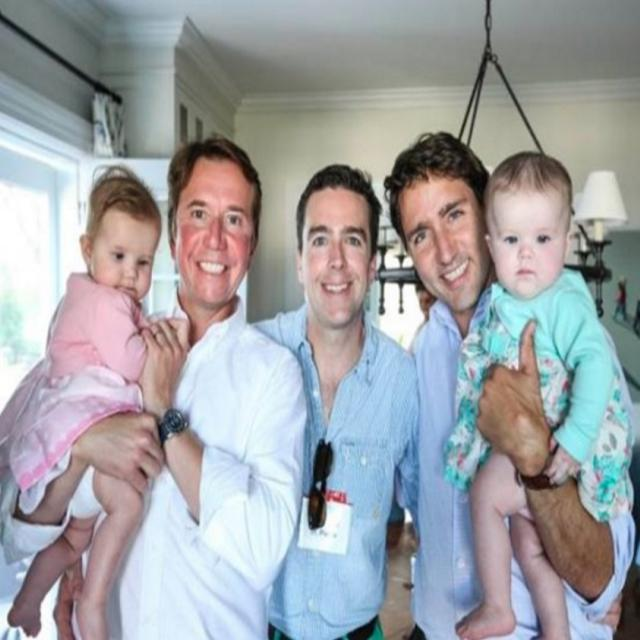body: (25, 128, 312, 639), (376, 120, 639, 639), (436, 148, 636, 639), (0, 162, 188, 640), (248, 162, 424, 640)
